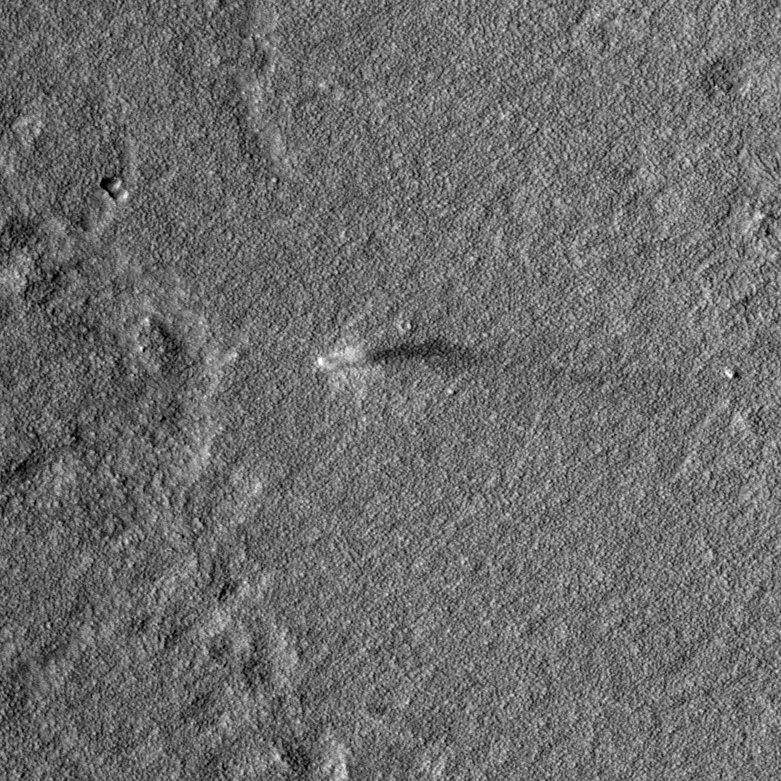dust_devil: (313, 332, 485, 373)
